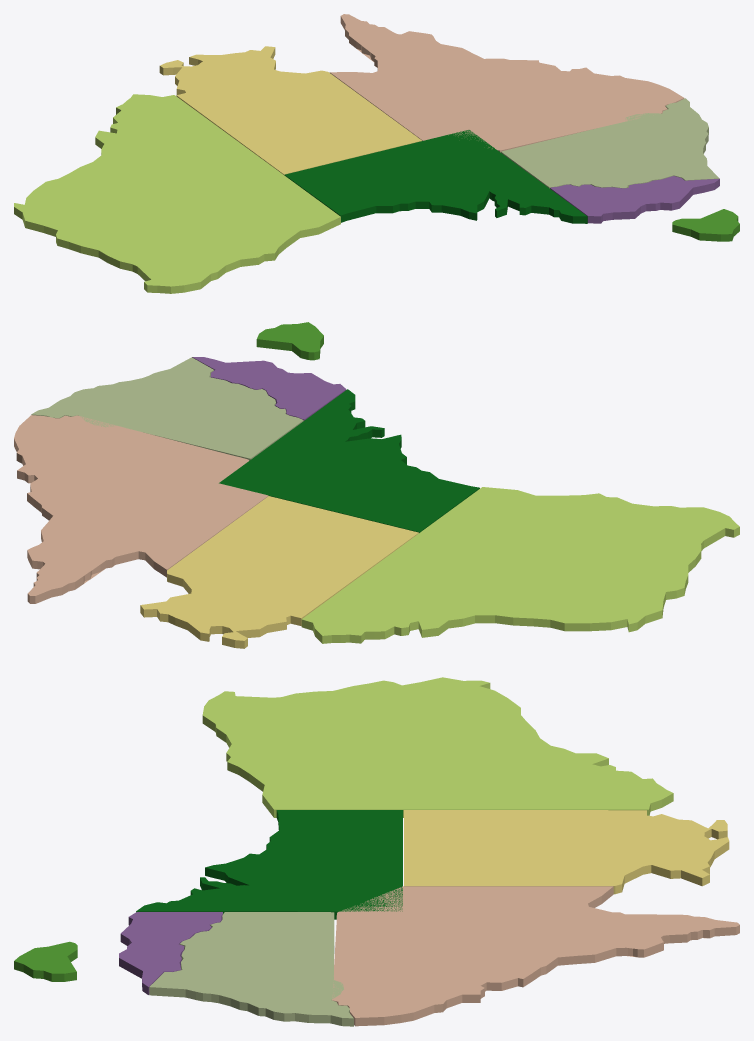
The model's file is Australia_map.fbx.
The picture shows the model from 3 angles, top to bottom: view 1: azimuth 30°, elevation 25°; view 2: azimuth 150°, elevation 25°; view 3: azimuth 270°, elevation 25°; orthographic projection. The views are drawn at different scales.
Visible parts, largest first — view 1: Western Australia, Queensland, North Territory, South Australia, New South Wales, Victoria, Tasmania; view 2: Western Australia, Queensland, North Territory, South Australia, New South Wales, Victoria, Tasmania; view 3: Western Australia, Queensland, North Territory, South Australia, New South Wales, Victoria, Tasmania.
Boxes of the visible parts, x1,y1,x2,y2 form: Western Australia: (14, 94, 340, 293); Queensland: (329, 14, 684, 152); North Territory: (159, 46, 421, 174); South Australia: (284, 130, 587, 223); New South Wales: (501, 98, 719, 188); Victoria: (550, 176, 719, 223); Tasmania: (672, 209, 739, 241); Western Australia: (301, 487, 739, 643); Queensland: (14, 415, 268, 603); North Territory: (140, 496, 418, 648); South Australia: (219, 389, 479, 532); New South Wales: (31, 357, 303, 460); Victoria: (192, 357, 346, 420); Tasmania: (256, 322, 323, 360); Western Australia: (202, 677, 673, 817); Queensland: (332, 886, 739, 1026); North Territory: (404, 810, 729, 894); South Australia: (136, 810, 402, 919); New South Wales: (149, 912, 353, 1026); Victoria: (119, 912, 222, 994); Tasmania: (14, 941, 77, 981).
Size of the model in its own units: 883 by 10 by 795.
